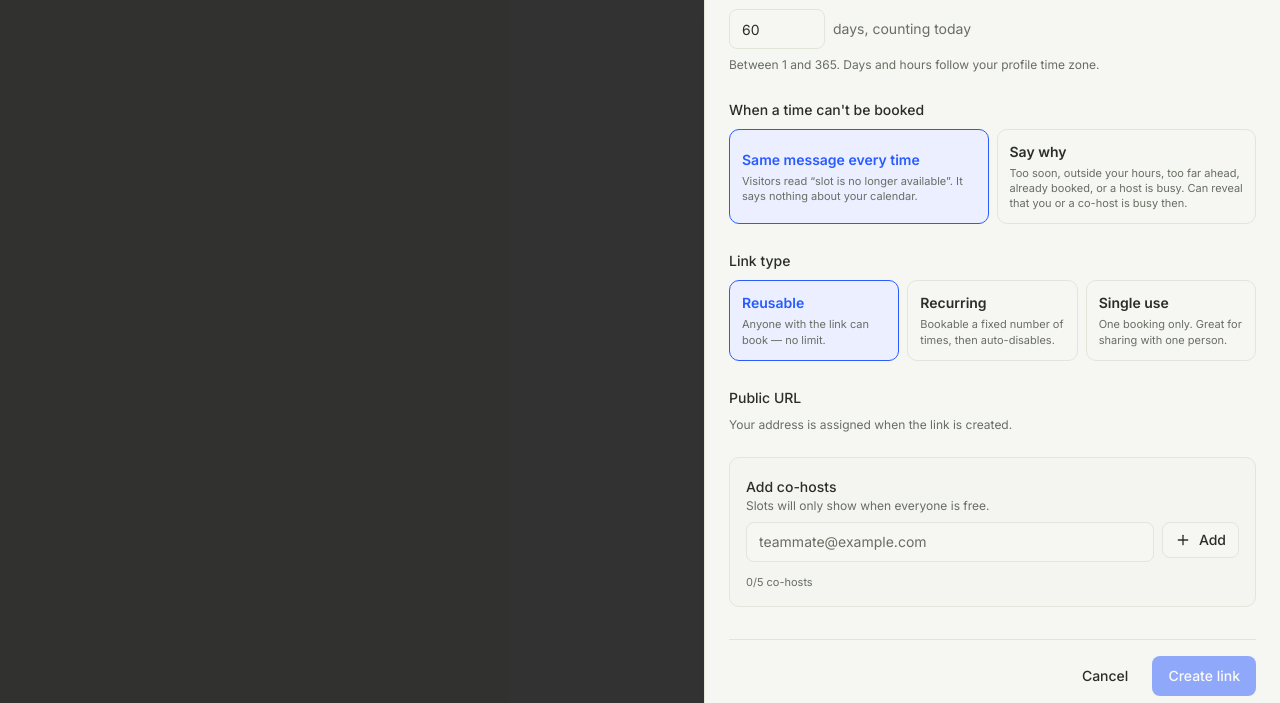
Test case: PAC-122 SF-086: co-host availability chips on a failed free/busy read › says availability was not checked, never 'Checking…' forever
(page scrolled)
Type "mate@co.com" into the field named "Co-host email". click: (950, 542)
box: [746,522,1154,562]
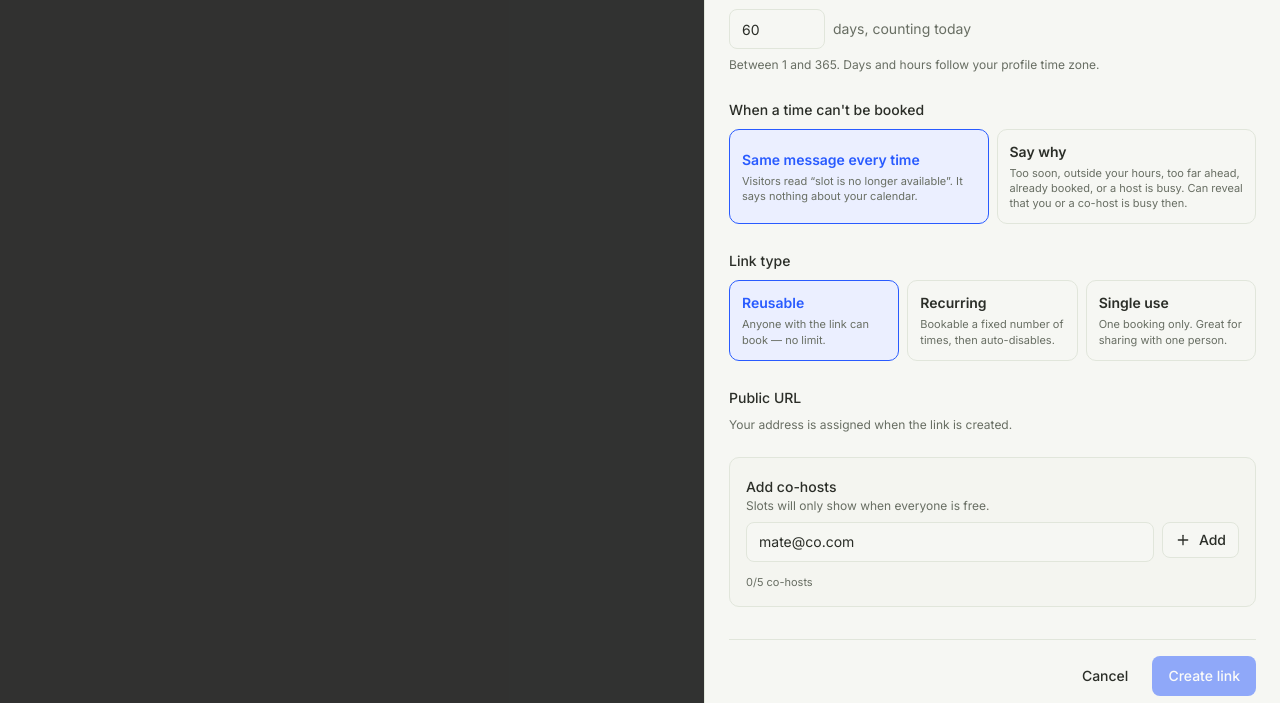
Click the button "Add". click: (1200, 540)
box: [1162,522,1239,558]
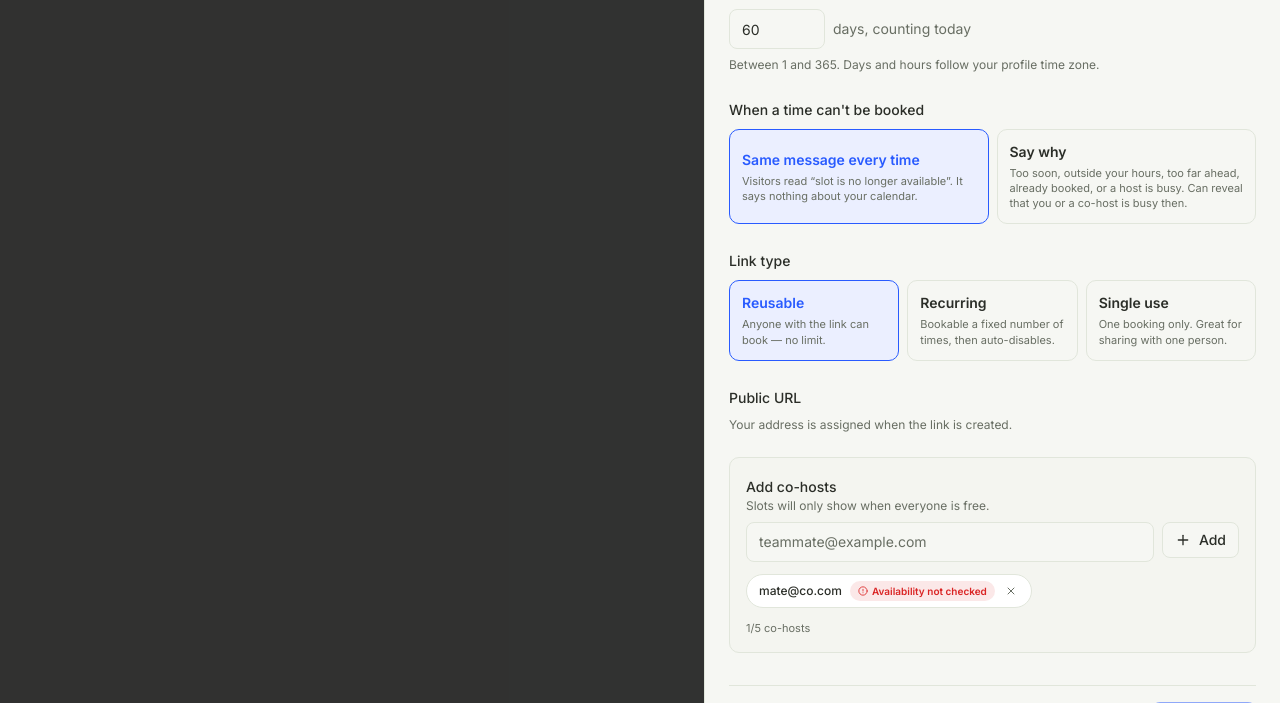
Expected: the element with test id "coverage-badge-error" reads "Availability not checked", [872,585,987,597]
